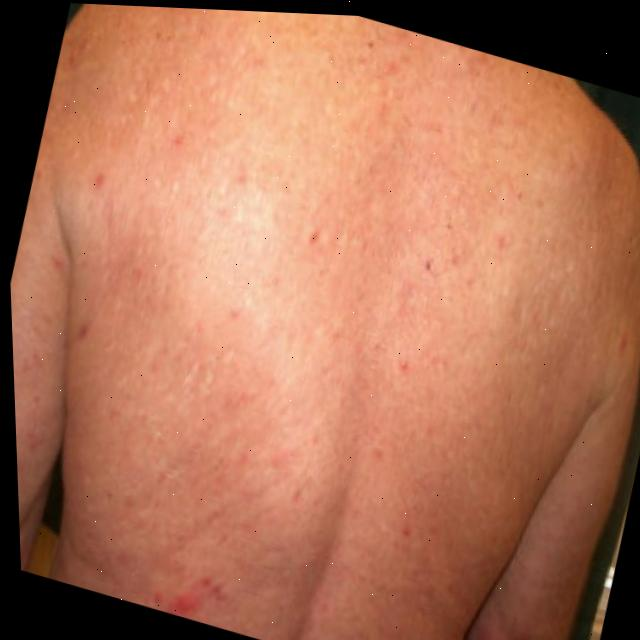Rosacea: (142, 564, 222, 626)
